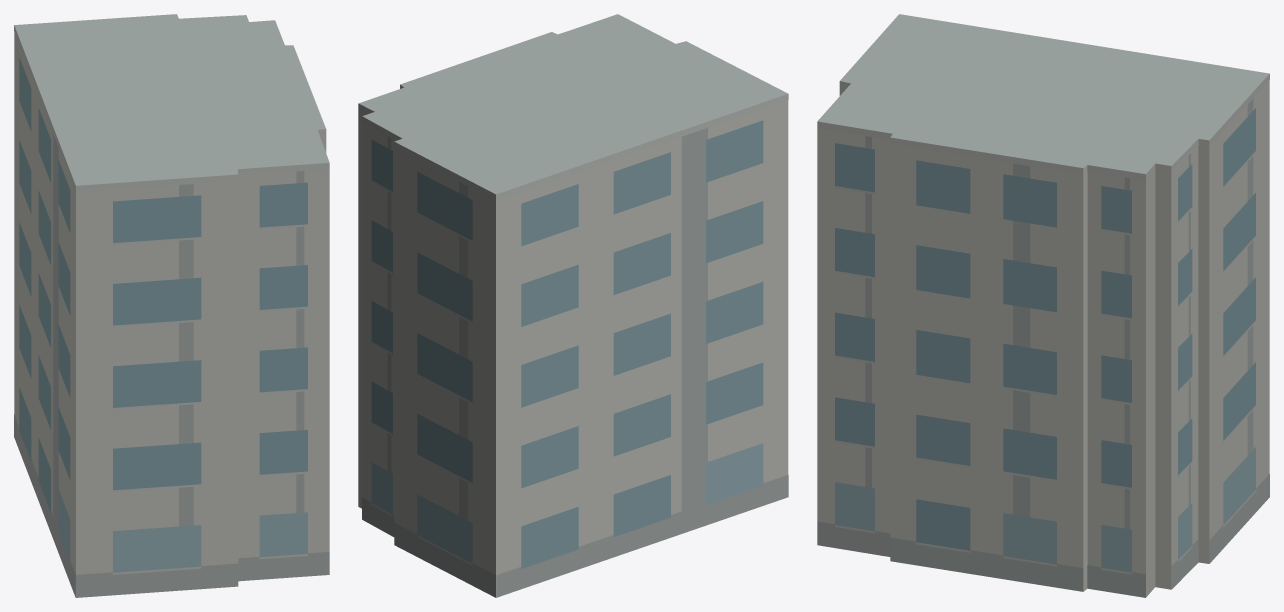
Rendered from survey-upis-32901922.glb.
The picture shows the model from 3 angles, left to right: view 1: azimuth 30°, elevation 25°; view 2: azimuth 150°, elevation 25°; view 3: azimuth 270°, elevation 25°; orthographic projection. The views are drawn at different scales.
Visible parts, largest first — view 1: survey-upis-32901922.tmp; view 2: survey-upis-32901922.tmp; view 3: survey-upis-32901922.tmp.
Part boxes in pixels (left/top/right/bottom): survey-upis-32901922.tmp: left=14, top=14, right=329, bottom=597; survey-upis-32901922.tmp: left=358, top=14, right=788, bottom=597; survey-upis-32901922.tmp: left=817, top=14, right=1269, bottom=597.
Bounding box in the file's own units: 12.74 × 15.7 × 15.2.
